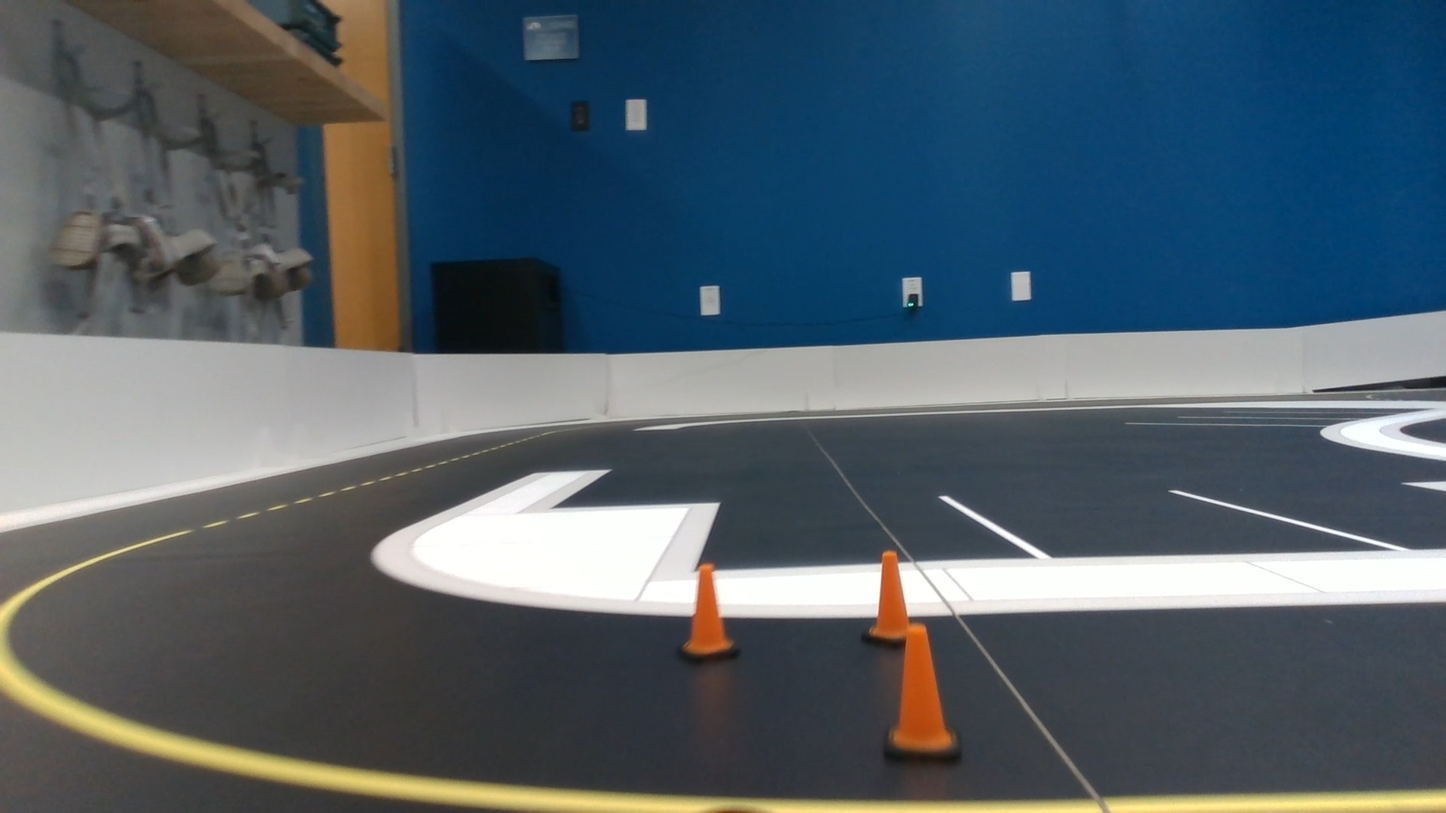Traffic Cone: (886, 623, 960, 760), (680, 564, 737, 661), (862, 551, 908, 646)
